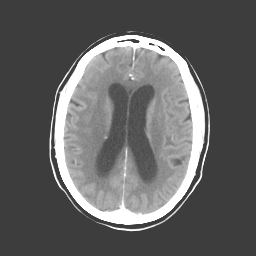ischemic: (64, 150, 89, 189)
